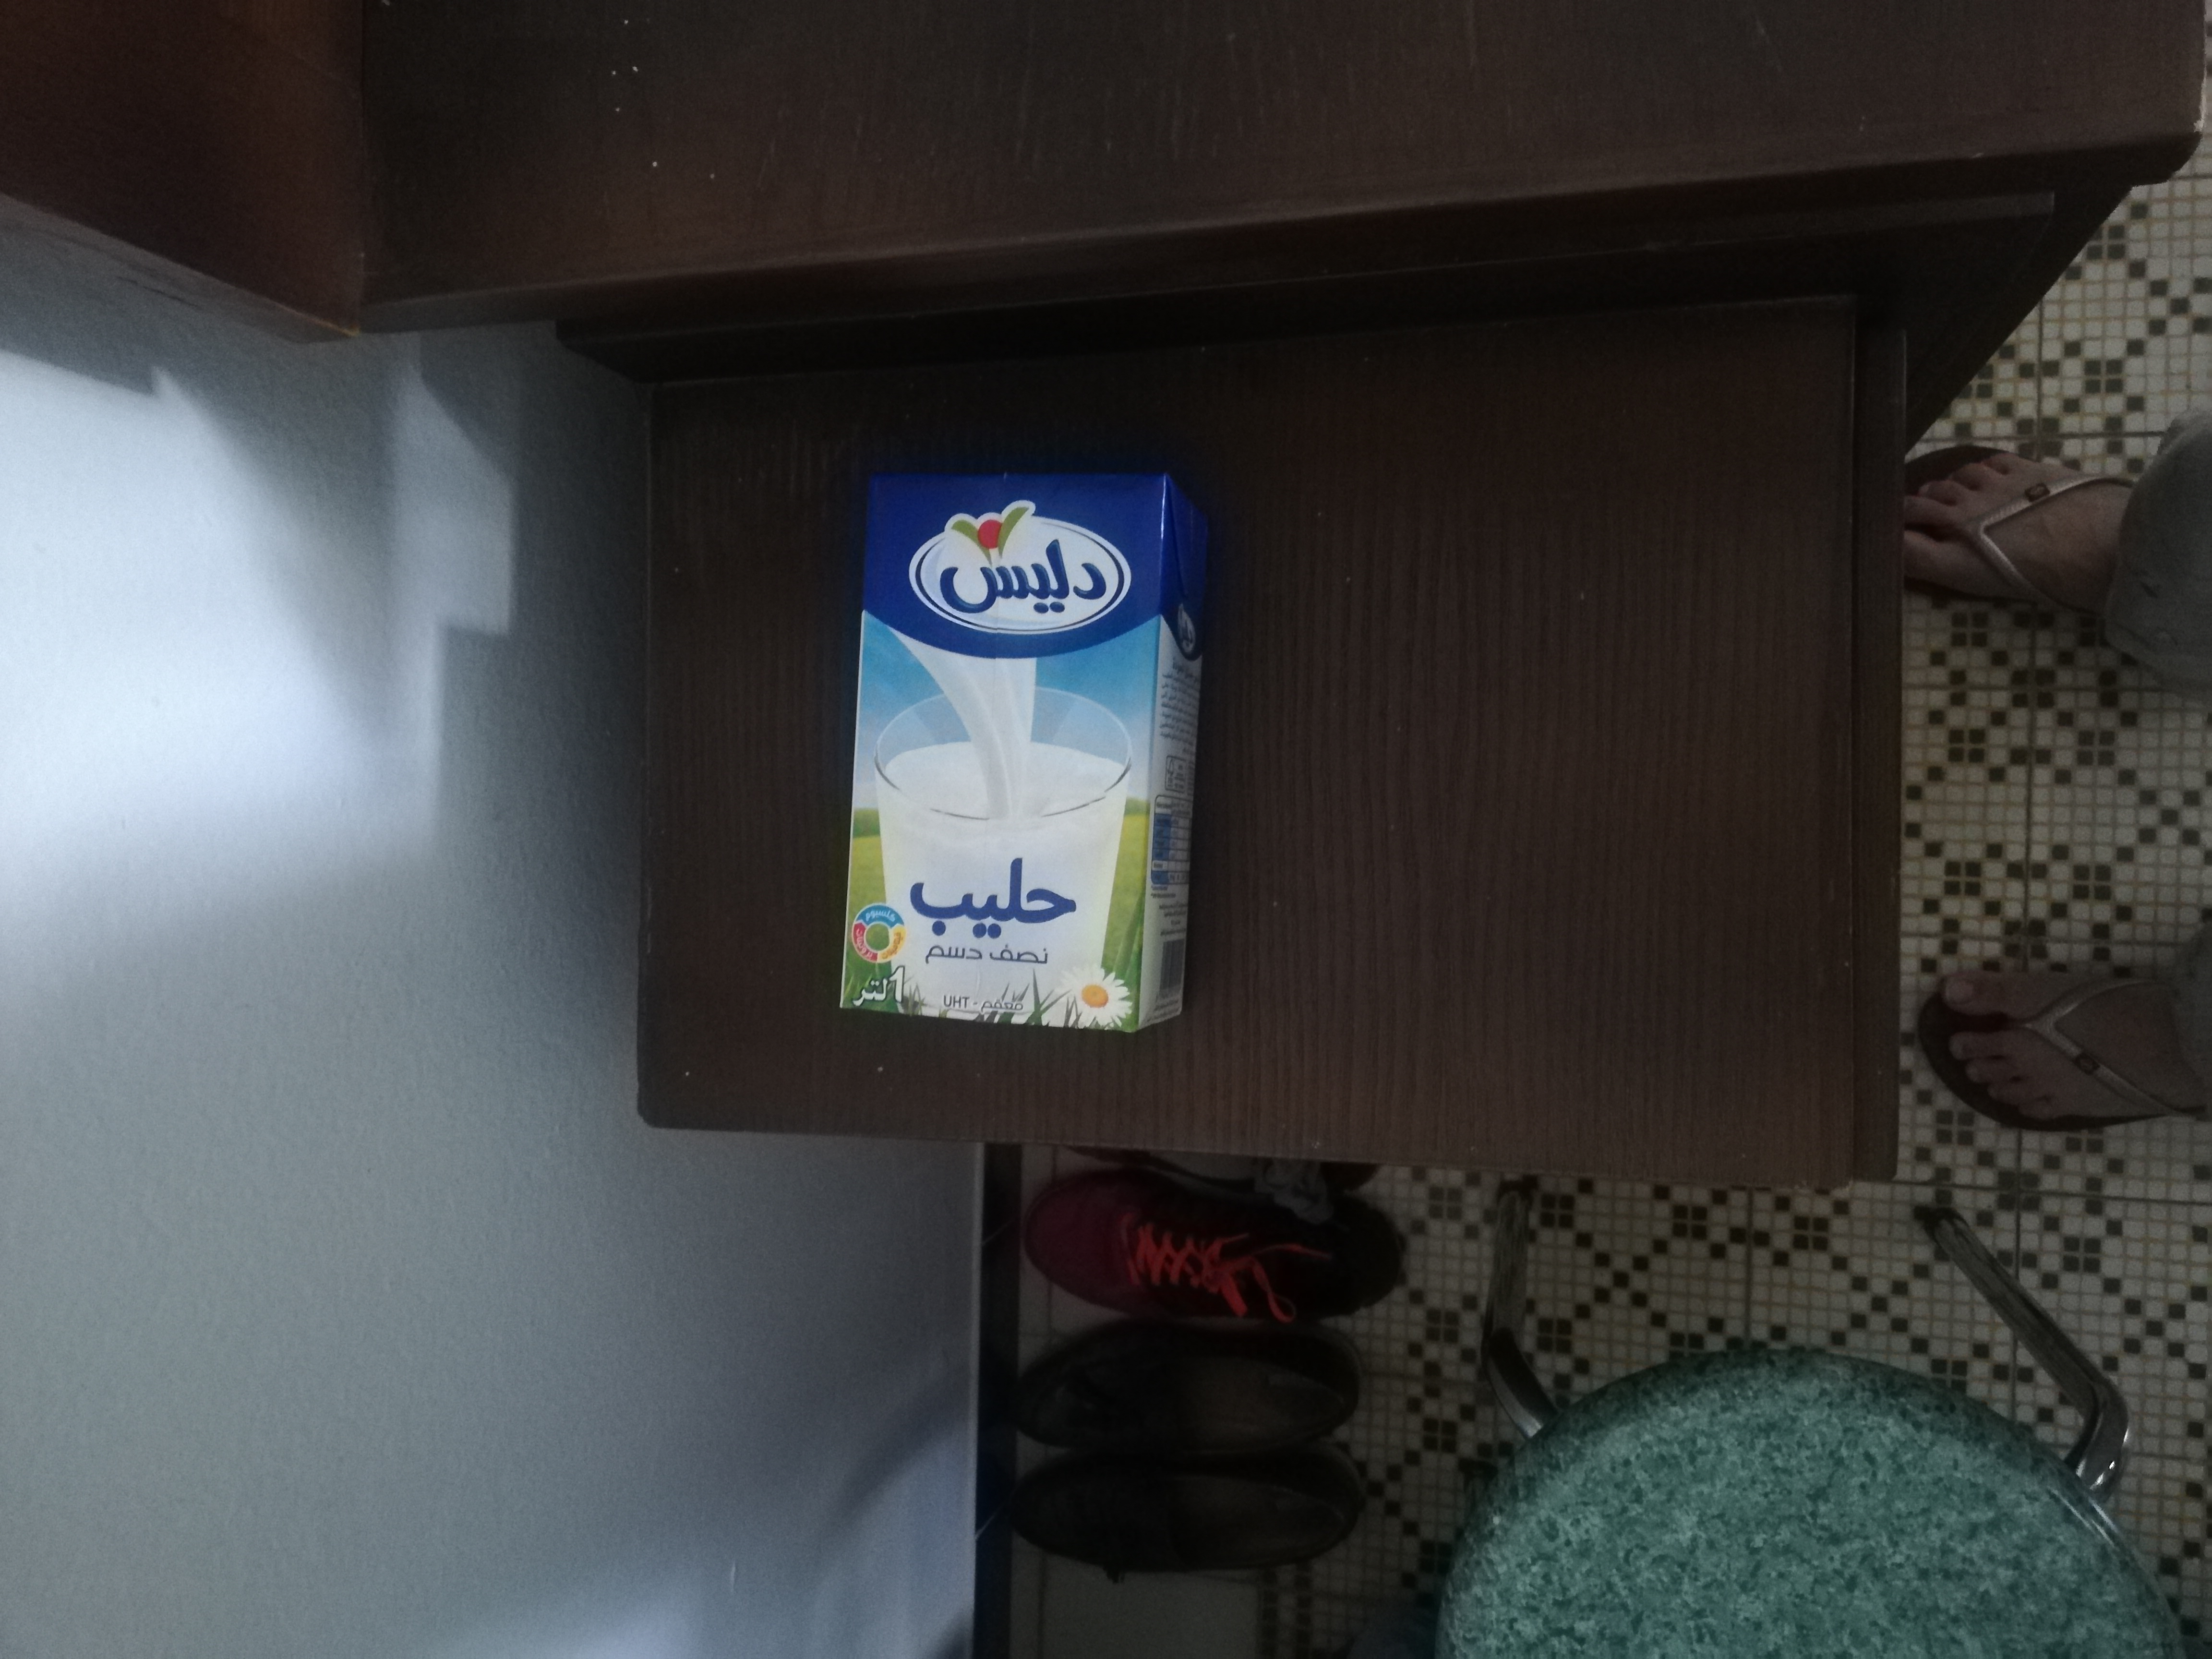Lait delice: (838, 471, 1212, 1032)
